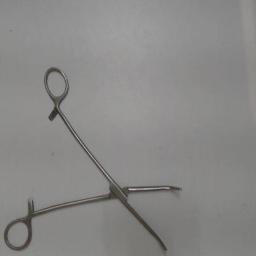Lahey Forceps: (2, 62, 186, 254)
